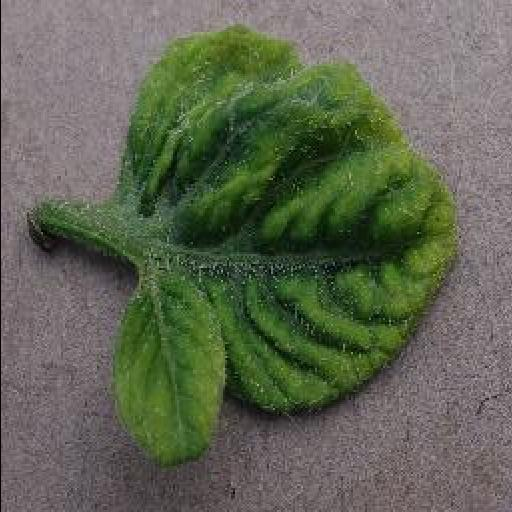disease_tomato: (112, 30, 462, 462)
